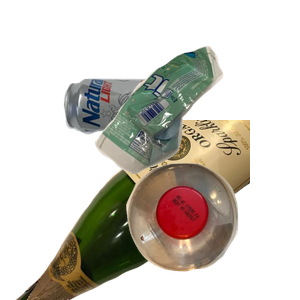glass: (13, 120, 253, 300)
metal: (61, 75, 231, 202)
plastic: (124, 161, 300, 300)
trash: (92, 44, 300, 211)
